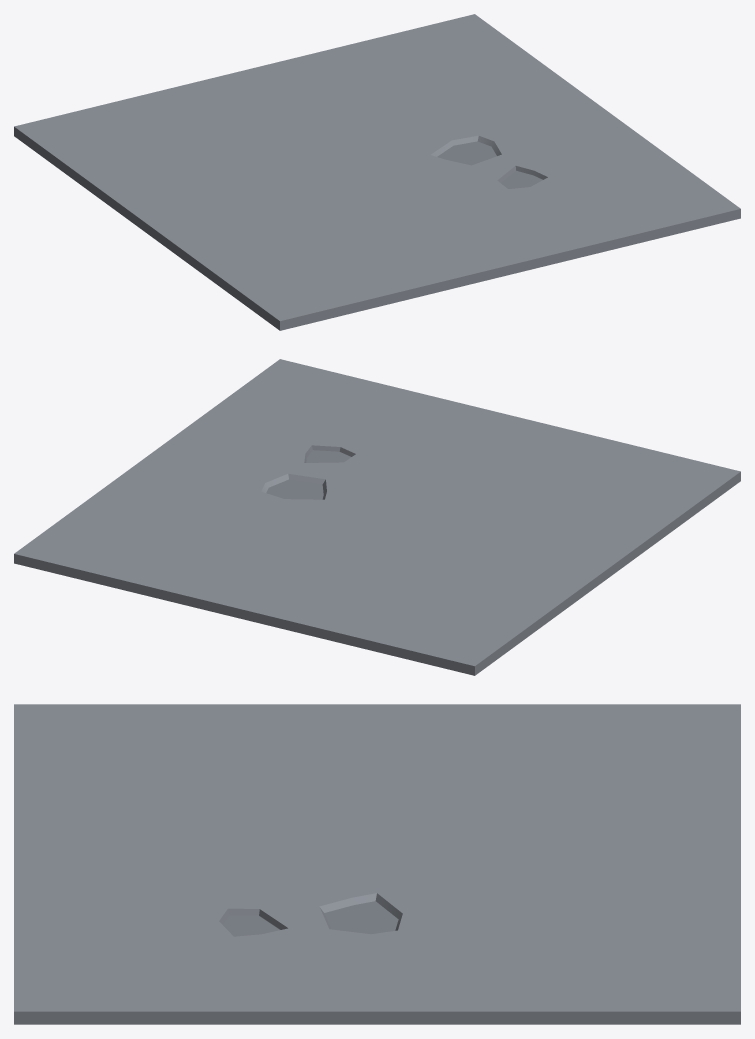
File: Floor_04.fbx
The picture shows the model from 3 angles, top to bottom: view 1: azimuth 30°, elevation 25°; view 2: azimuth 150°, elevation 25°; view 3: azimuth 270°, elevation 25°; orthographic projection. The views are drawn at different scales.
Parts seen in each view (by area): view 1: Floor_04_LOD0; view 2: Floor_04_LOD0; view 3: Floor_04_LOD0.
Part boxes in pixels (<box>): Floor_04_LOD0: <box>14,14,740,330</box>; Floor_04_LOD0: <box>14,359,740,675</box>; Floor_04_LOD0: <box>14,704,740,1024</box>.
Size of what is drawn, in the model's own units: 500 by 10 by 500.
